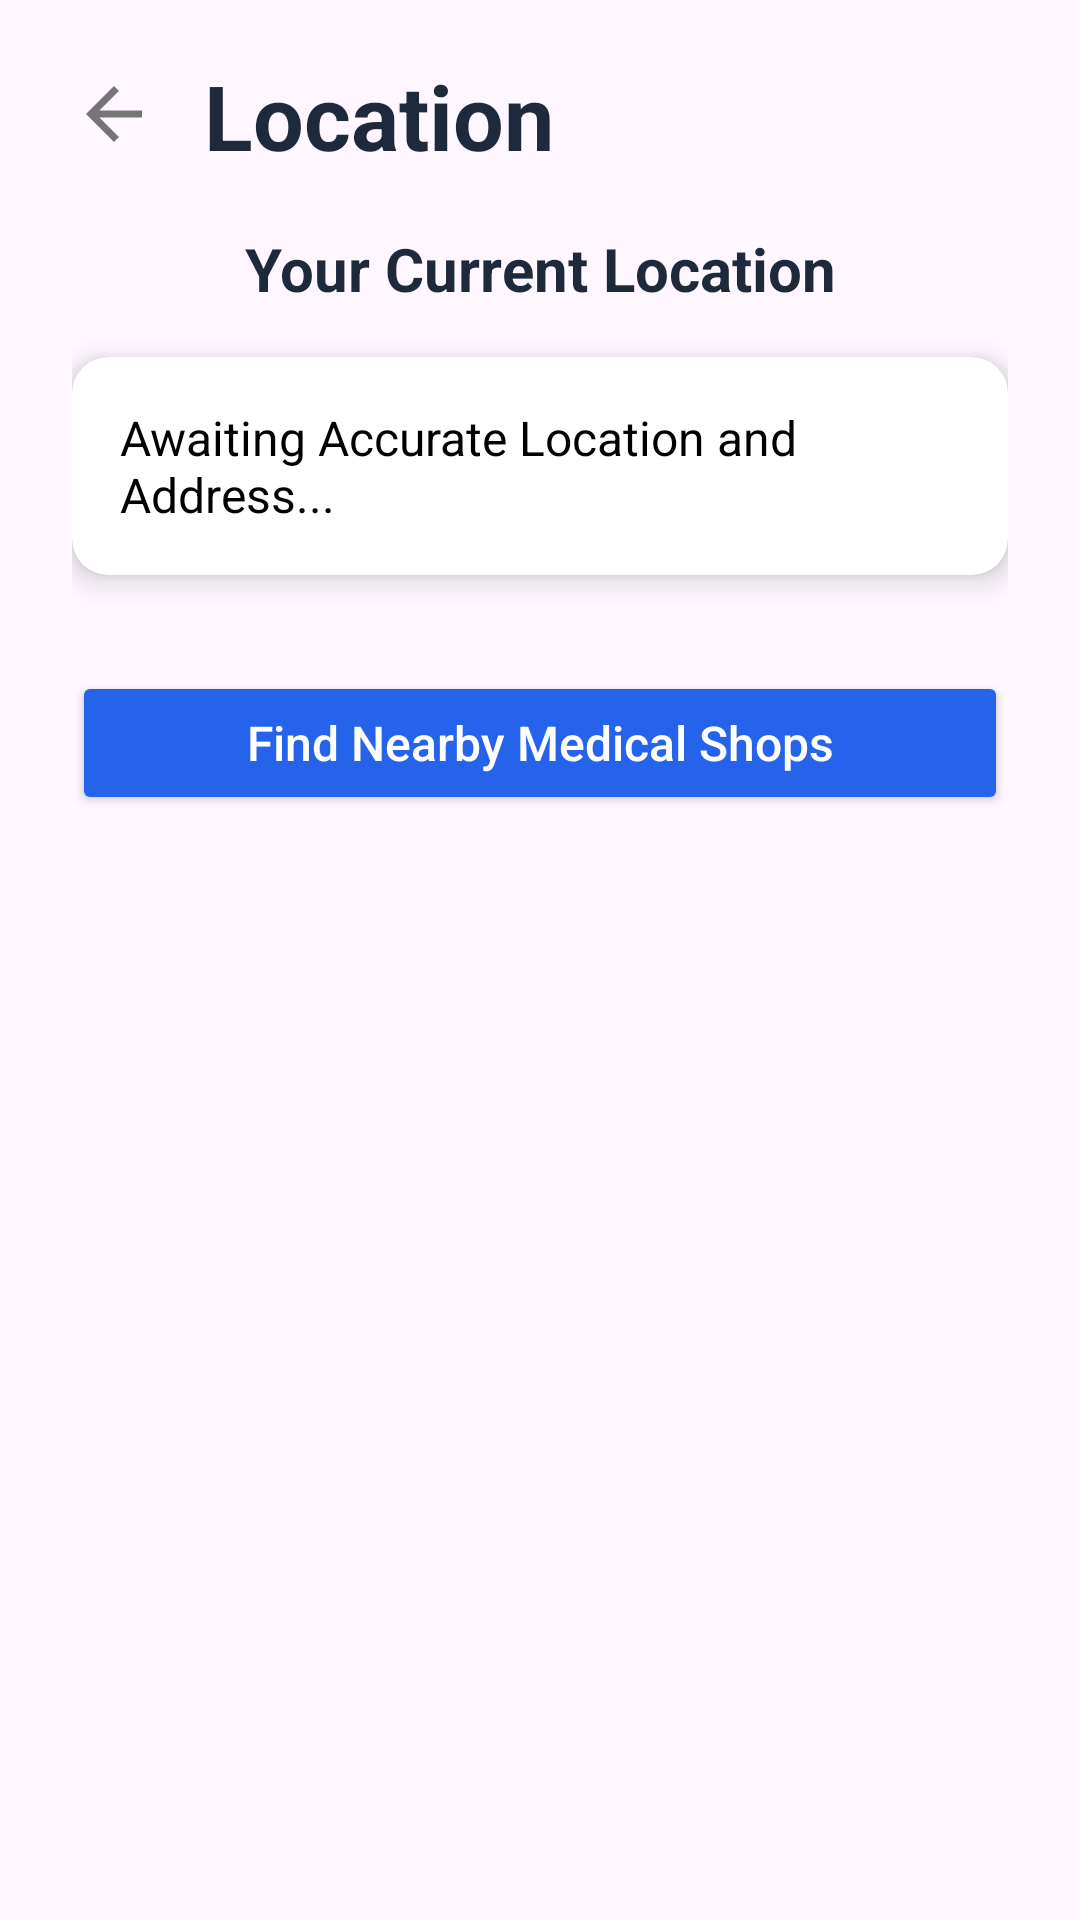

Screen size 1080 x 1920. Icon name, then its center in pixels as (x,y):
Back: (114,114)
